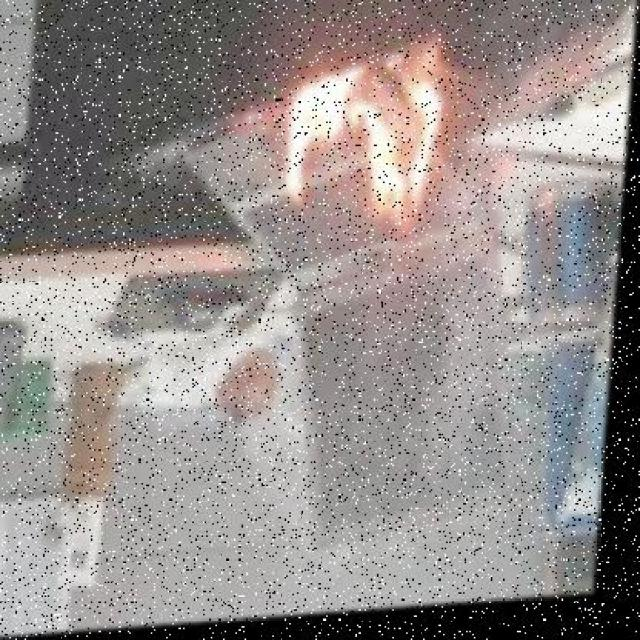fire: (265, 55, 468, 272)
